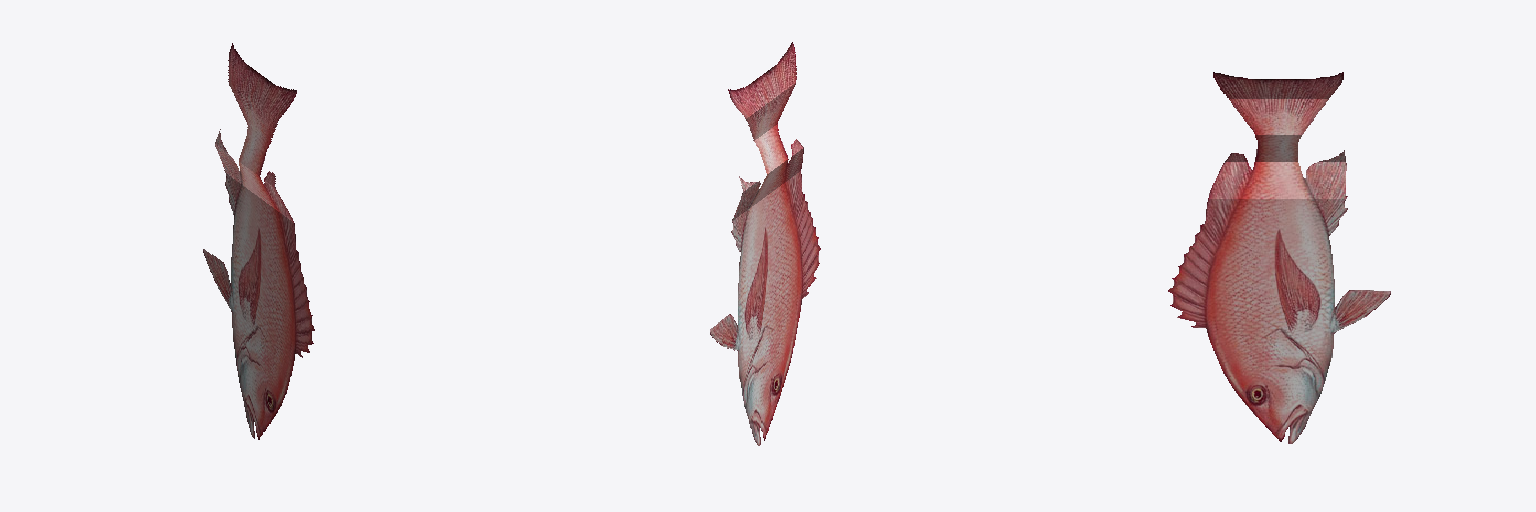
3 views of the same model, side by side, from view 1: azimuth 30°, elevation 25°; view 2: azimuth 150°, elevation 25°; view 3: azimuth 270°, elevation 25° (orthographic).
Size of the model in its own units: 0.0908 by 1.97 by 1.06.
Materials: 1 (1 with a texture image).